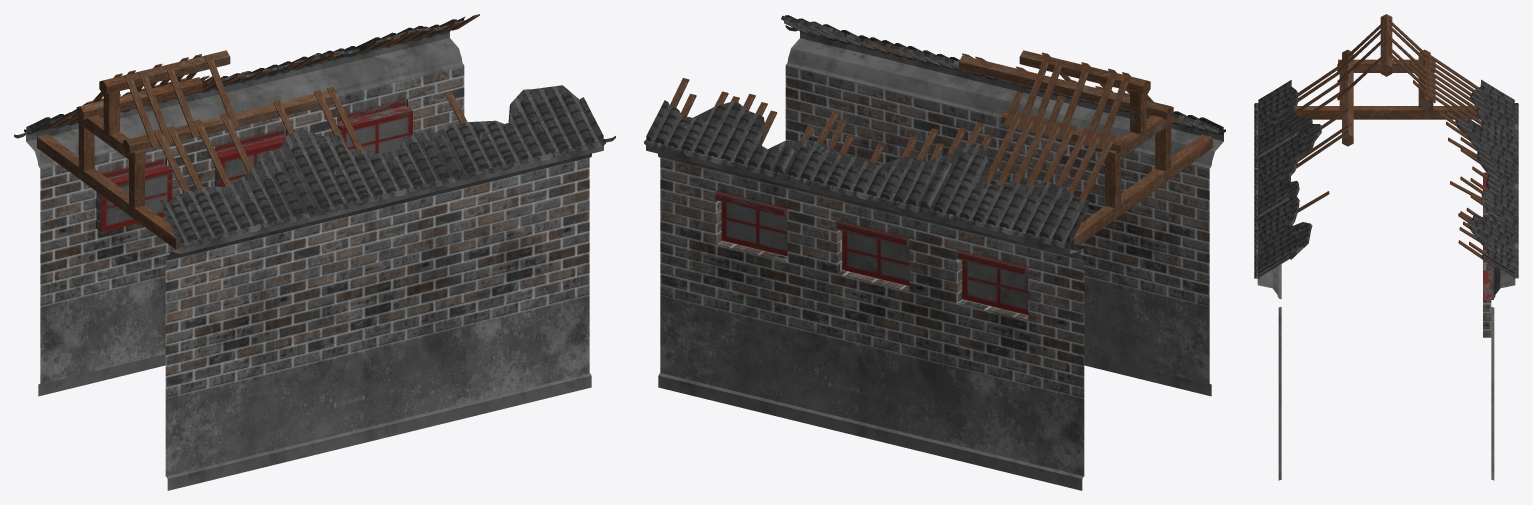
The model's file is hutongWallBDmgRoof.fbx.
3 renders of one model, left to right at view 1: azimuth 30°, elevation 25°; view 2: azimuth 150°, elevation 25°; view 3: azimuth 270°, elevation 25°, orthographic. The views are drawn at different scales.
Visible parts, largest first — view 1: hogtong_wall_b_dmg, hutong_roof_frame; view 2: hogtong_wall_b_dmg, hutong_roof_frame; view 3: hogtong_wall_b_dmg, hutong_roof_frame.
Boxes of the visible parts, left/top/right/bottom form: hogtong_wall_b_dmg: left=14, top=16, right=615, bottom=490; hutong_roof_frame: left=37, top=14, right=479, bottom=249; hogtong_wall_b_dmg: left=644, top=15, right=1225, bottom=490; hutong_roof_frame: left=670, top=40, right=1212, bottom=249; hogtong_wall_b_dmg: left=1254, top=79, right=1518, bottom=480; hutong_roof_frame: left=1294, top=14, right=1496, bottom=268.
Bounding box in the file's own units: 510 × 394 × 310.
